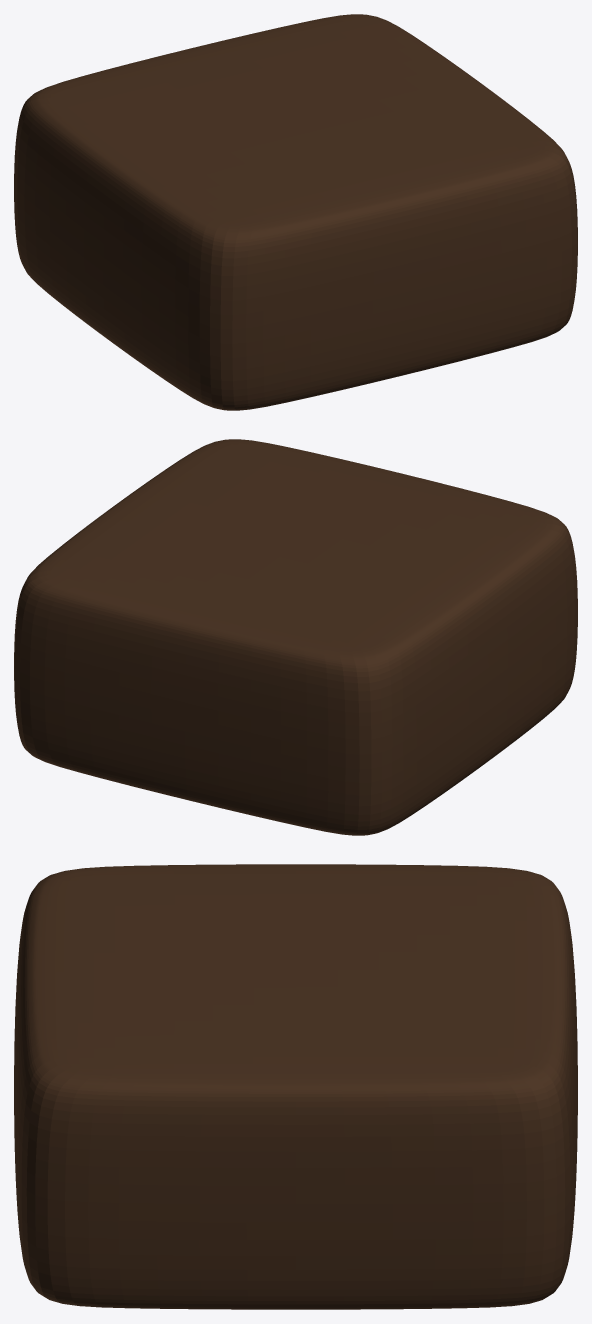
Rendered from CakeBigLayer.glb.
3 renders of one model, top to bottom at view 1: azimuth 30°, elevation 25°; view 2: azimuth 150°, elevation 25°; view 3: azimuth 270°, elevation 25°, orthographic. The views are drawn at different scales.
Parts seen in each view (by area): view 1: Cube.028; view 2: Cube.028; view 3: Cube.028.
Boxes of the visible parts, x1,y1,x2,y2 form: Cube.028: [14, 14, 577, 410]; Cube.028: [14, 439, 577, 835]; Cube.028: [14, 864, 577, 1309].
Size of the model in its own units: 1.99 by 0.9083 by 1.99.
